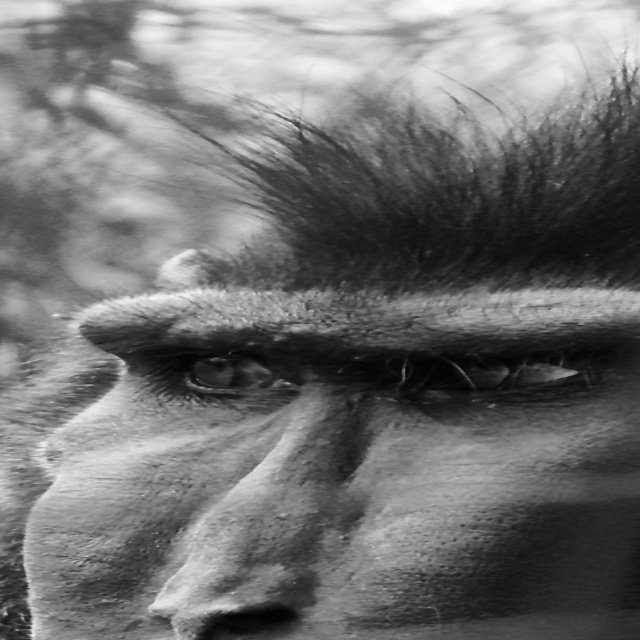Monkey: (0, 60, 639, 639)
